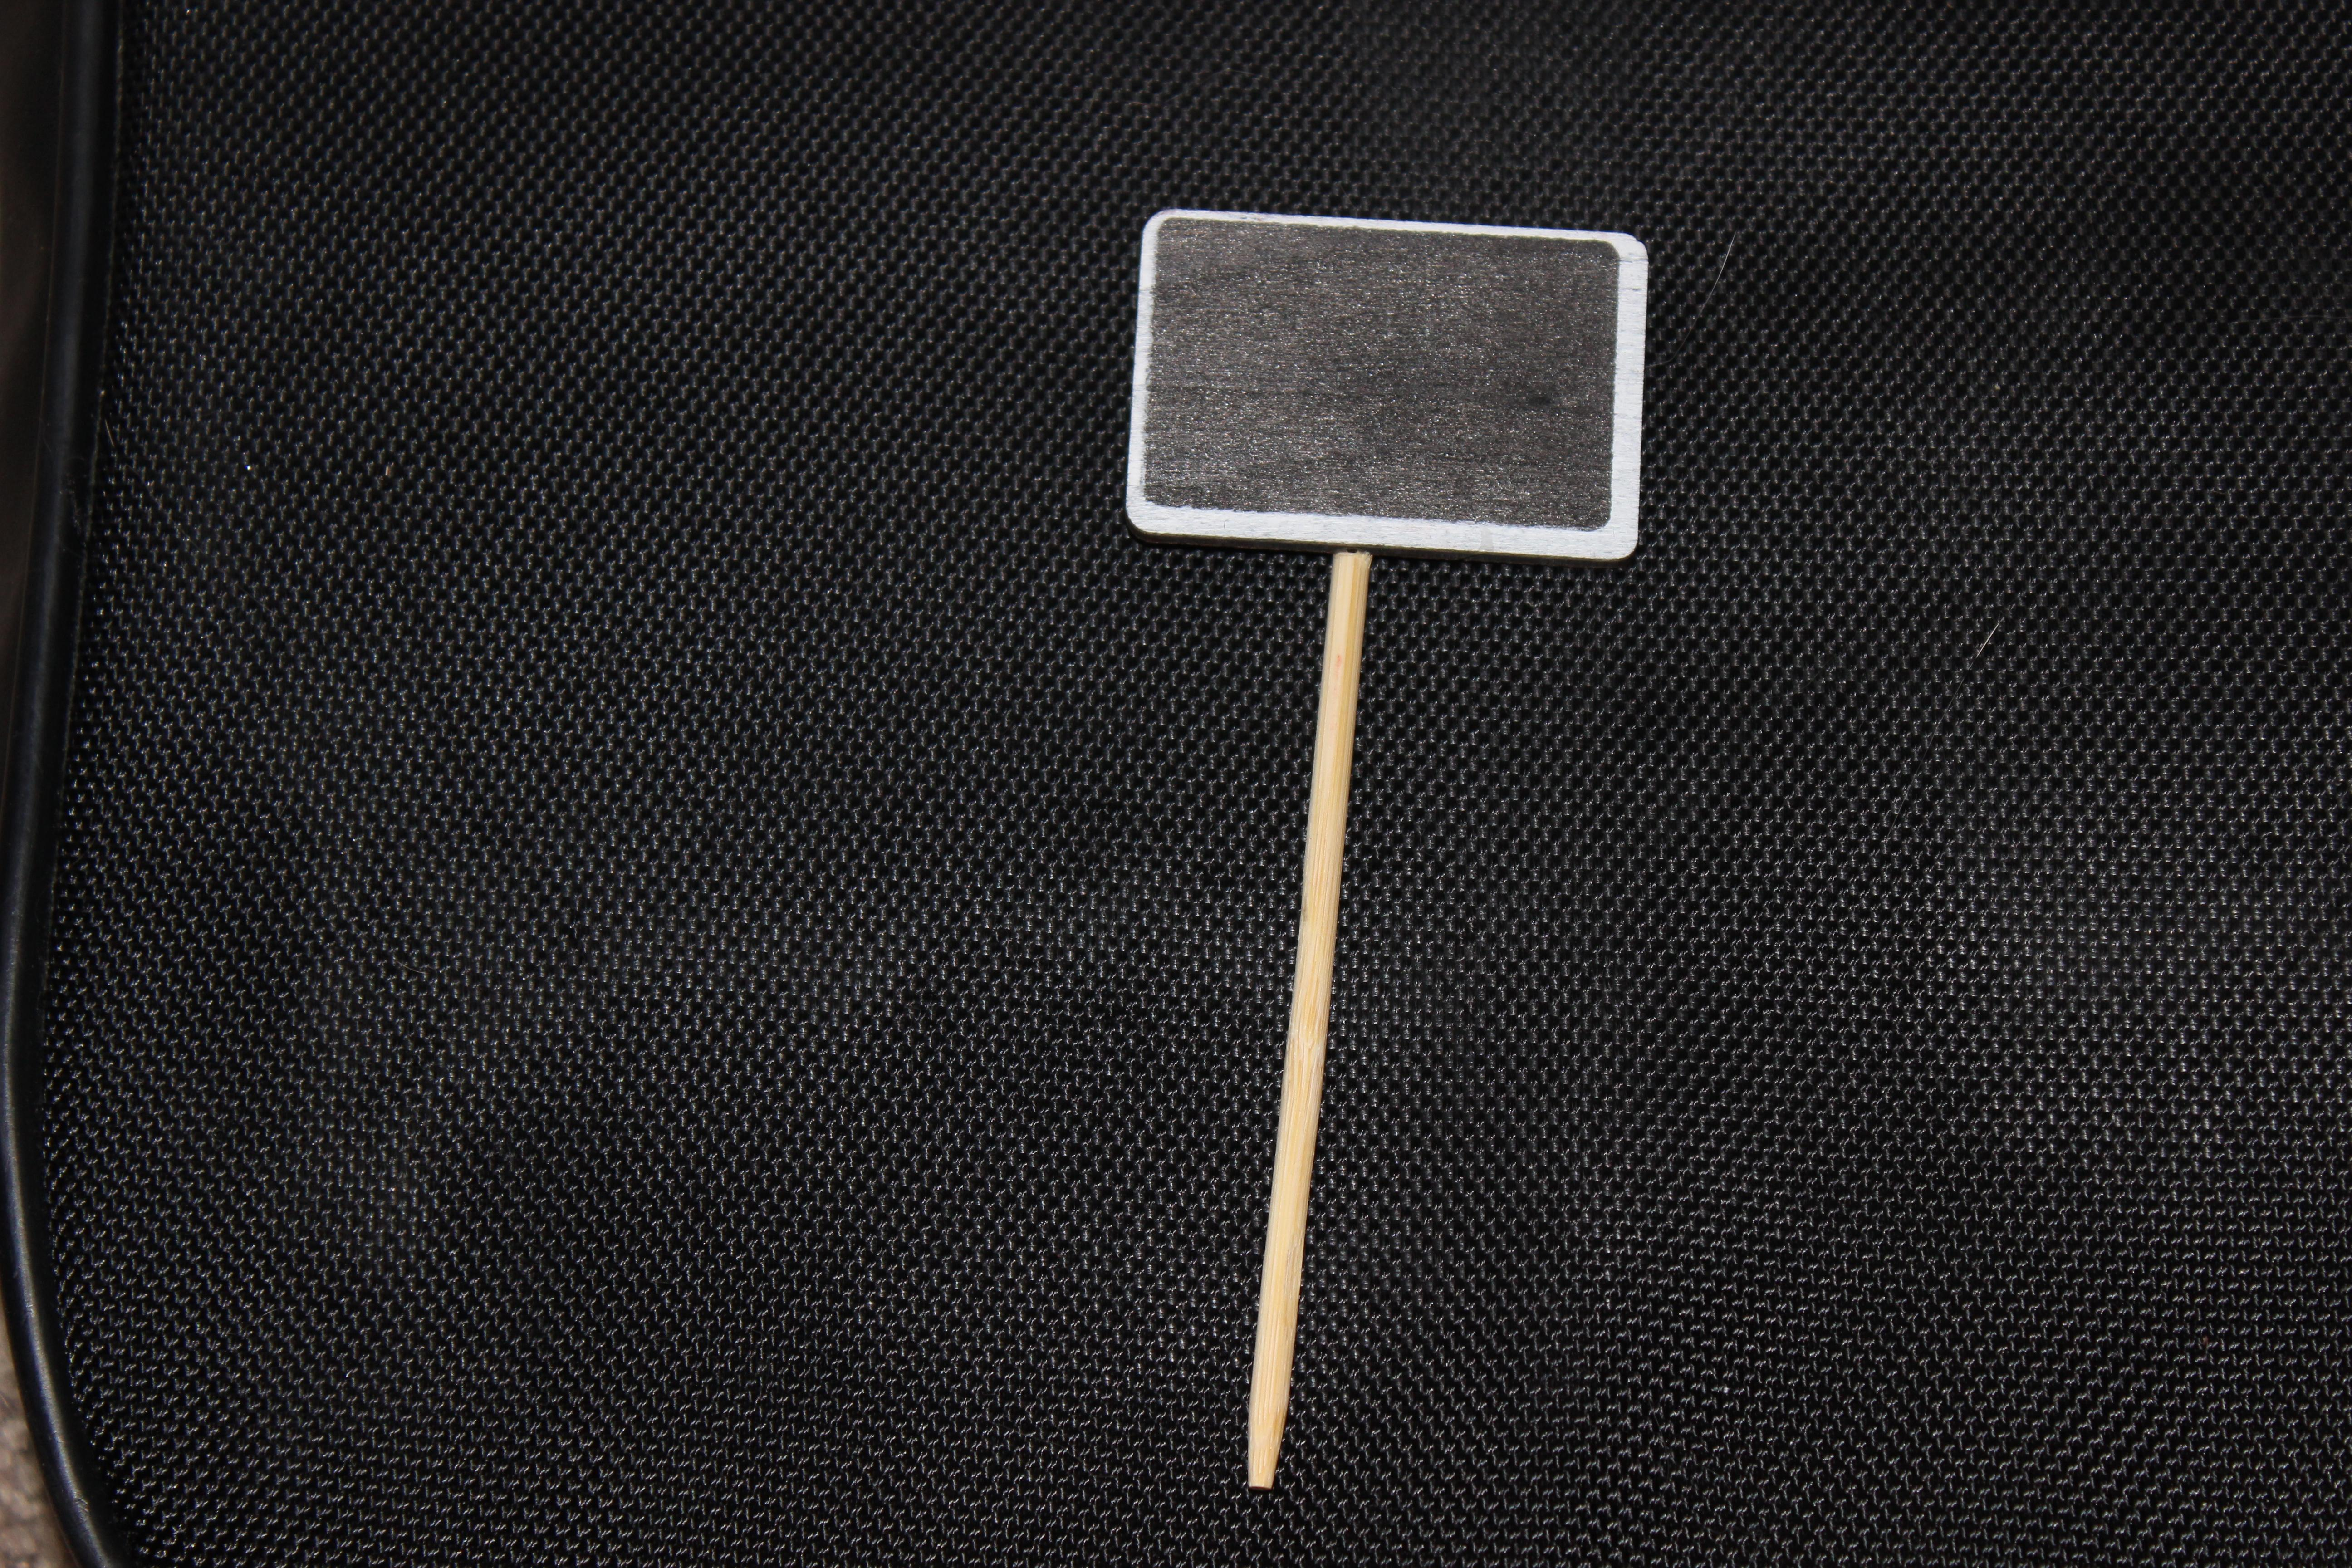sign: (1083, 177, 1685, 1500)
